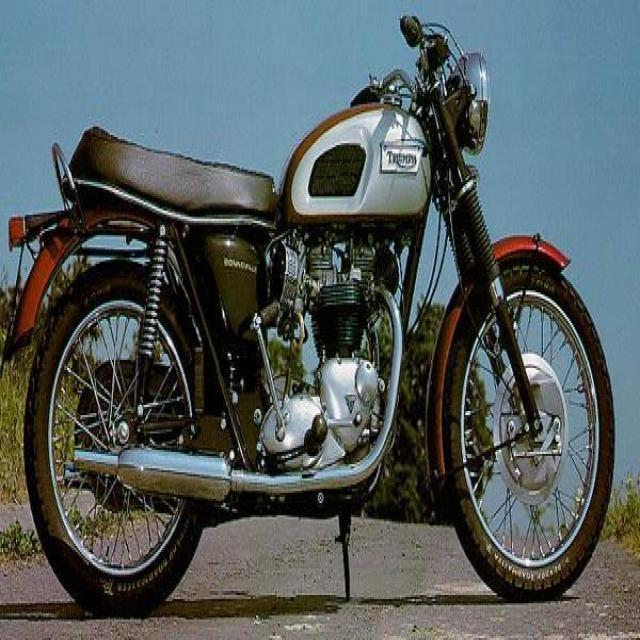Motorcycle: (12, 39, 626, 610)
